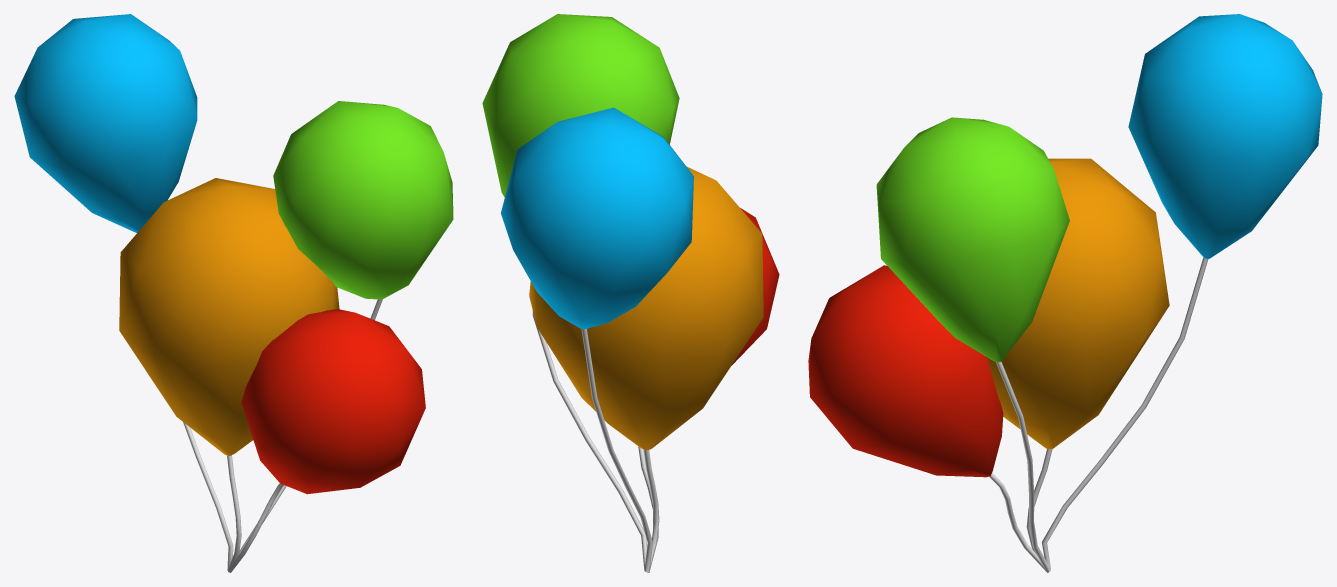
The model's file is Balloons.glb.
3 views of the same model, side by side, from view 1: azimuth 30°, elevation 25°; view 2: azimuth 150°, elevation 25°; view 3: azimuth 270°, elevation 25° (orthographic). The views are drawn at different scales.
Visible parts, largest first — view 1: Icosphere.001; view 2: Icosphere.001; view 3: Icosphere.001.
Boxes of the visible parts, left/top/right/bottom form: Icosphere.001: left=14, top=14, right=453, bottom=572; Icosphere.001: left=482, top=14, right=779, bottom=572; Icosphere.001: left=808, top=14, right=1322, bottom=572.
Bounding box in the file's own units: 1.61 × 2.61 × 2.29.
